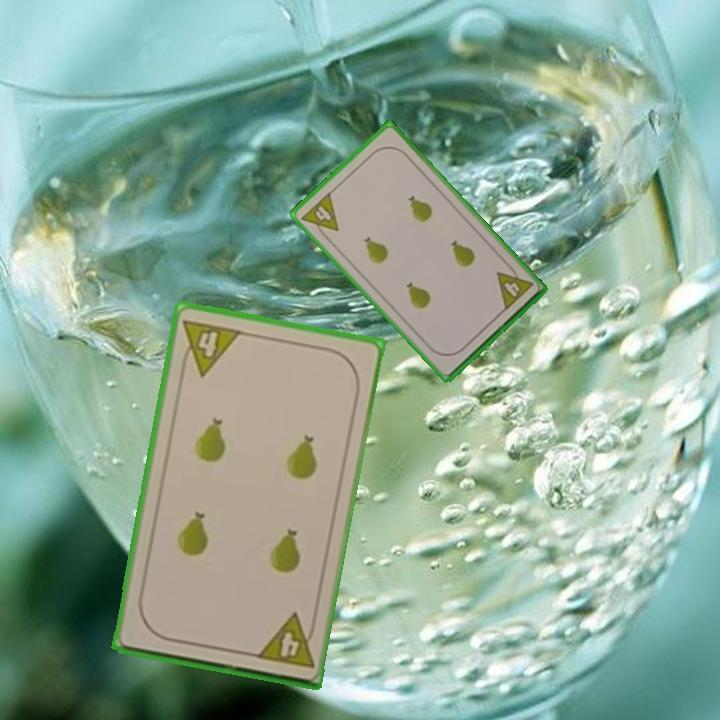4p: (176, 315, 245, 379), (252, 610, 319, 671), (297, 188, 342, 243), (493, 260, 536, 313)
